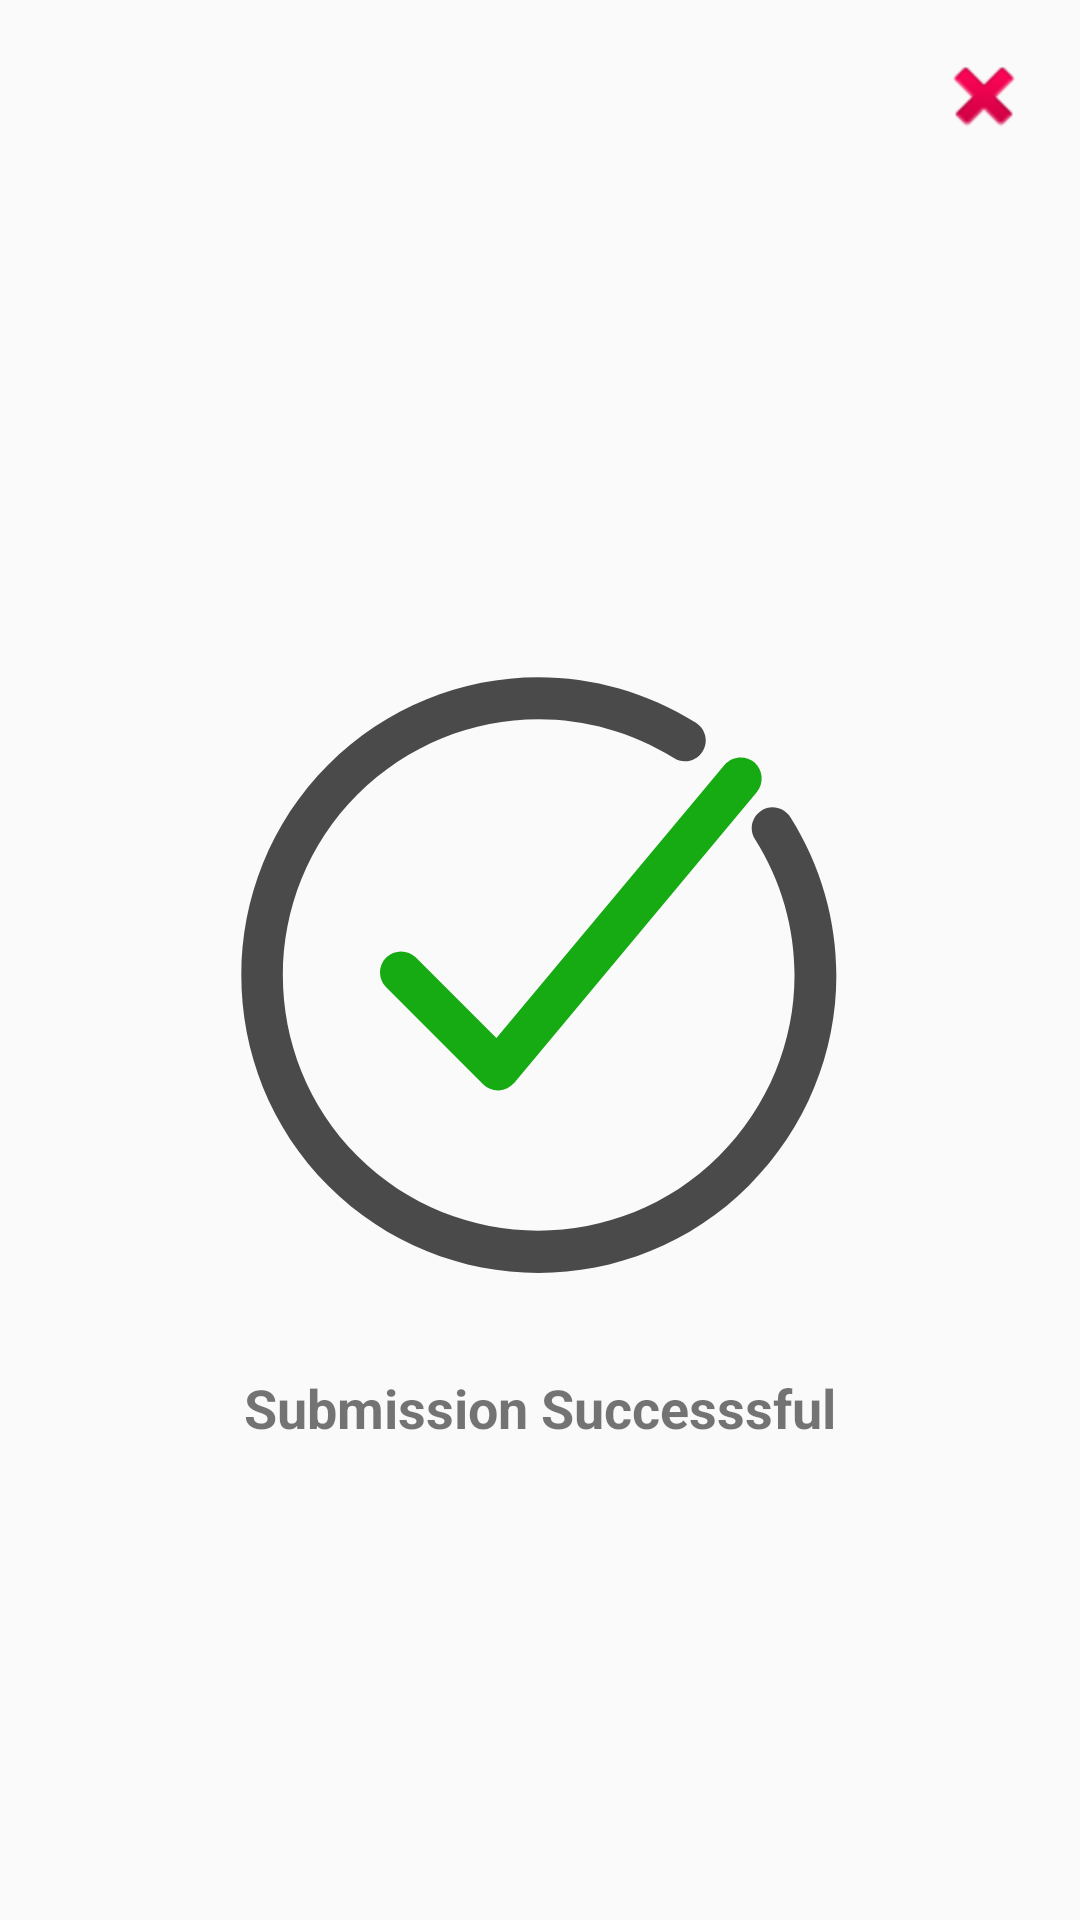

Point at icon controls on the screen. Image size 1080*1920, points as point (x, y).
delete: point (984, 96)
